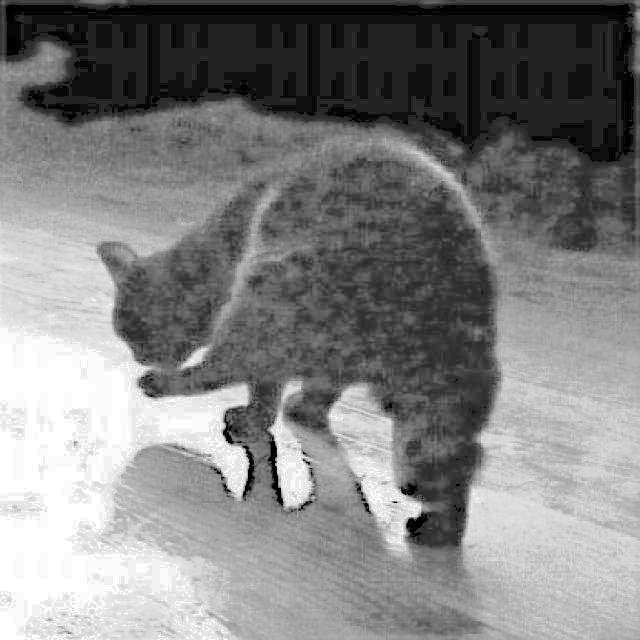Cat: (93, 115, 521, 548)
